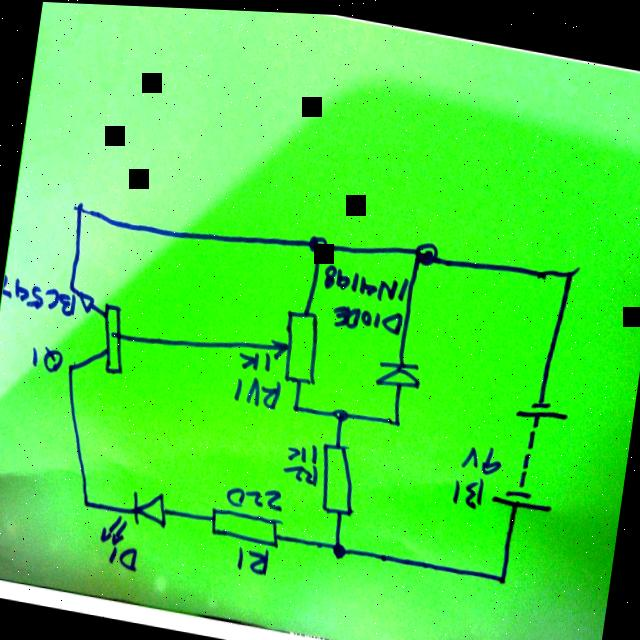diode: (97, 478, 172, 556), (373, 352, 423, 389)
junction: (412, 235, 442, 265), (306, 229, 330, 255), (494, 564, 512, 584), (328, 537, 346, 557), (332, 402, 350, 422), (386, 409, 404, 429), (286, 394, 304, 414), (62, 358, 80, 378), (70, 197, 88, 217), (560, 261, 578, 280), (77, 492, 95, 511), (62, 278, 80, 297)
resistor: (263, 300, 325, 384), (312, 434, 362, 516), (206, 500, 282, 547)
source: (488, 477, 556, 511), (514, 389, 570, 421)
text: (320, 257, 409, 303), (0, 272, 78, 317), (329, 296, 404, 337), (223, 478, 284, 514), (231, 372, 283, 409), (460, 437, 504, 473), (233, 541, 271, 575), (451, 469, 485, 506), (27, 342, 64, 375), (280, 455, 320, 485), (106, 540, 140, 573), (236, 344, 273, 372), (284, 437, 320, 463)
transistor: (68, 287, 134, 375)
